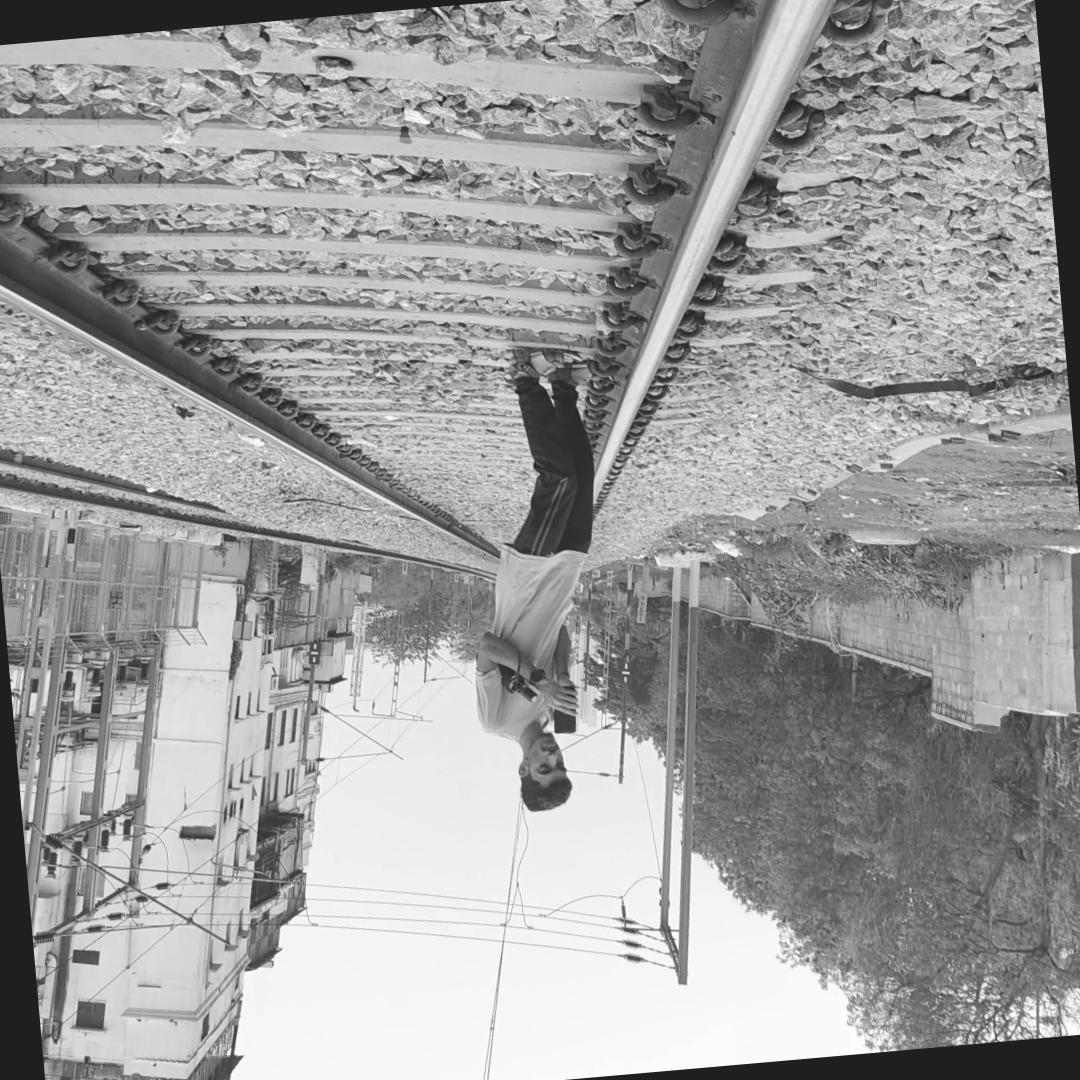standing: (475, 308, 626, 812)
